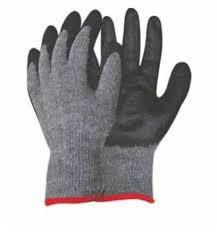Gloves: (90, 0, 191, 208), (24, 7, 115, 213)
